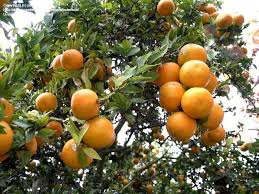orange: (57, 137, 93, 170), (79, 115, 115, 147), (182, 85, 215, 118), (166, 110, 197, 142), (70, 89, 102, 117), (179, 61, 211, 88), (158, 80, 183, 109), (154, 59, 180, 85), (178, 43, 208, 65), (61, 49, 84, 70), (35, 93, 58, 112)
